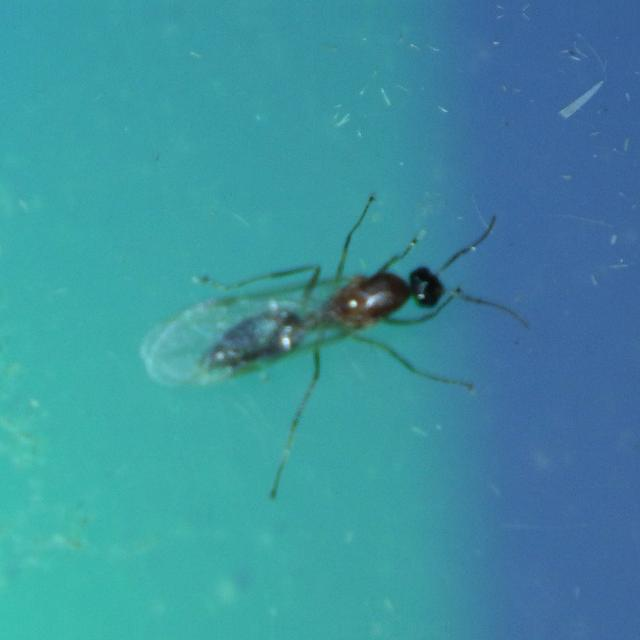Camponotus: (166, 198, 524, 418)
